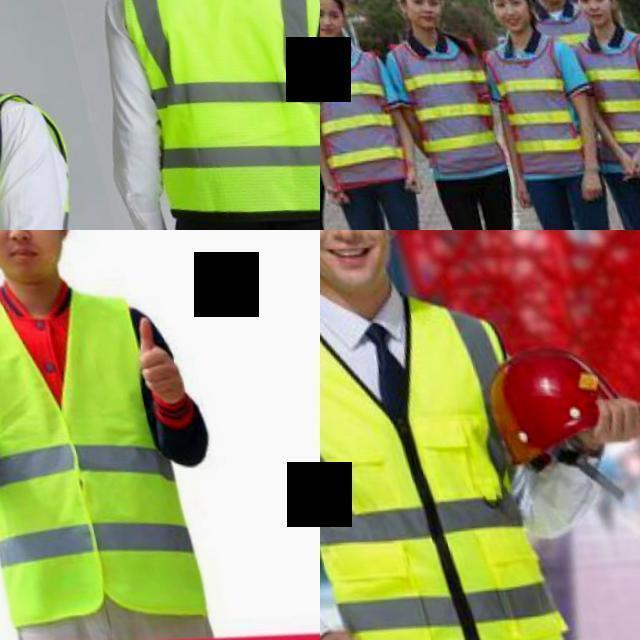vest: (320, 284, 581, 640), (0, 251, 204, 632), (113, 0, 320, 219), (475, 27, 595, 175), (393, 34, 503, 158), (320, 45, 412, 173), (568, 17, 640, 166)
